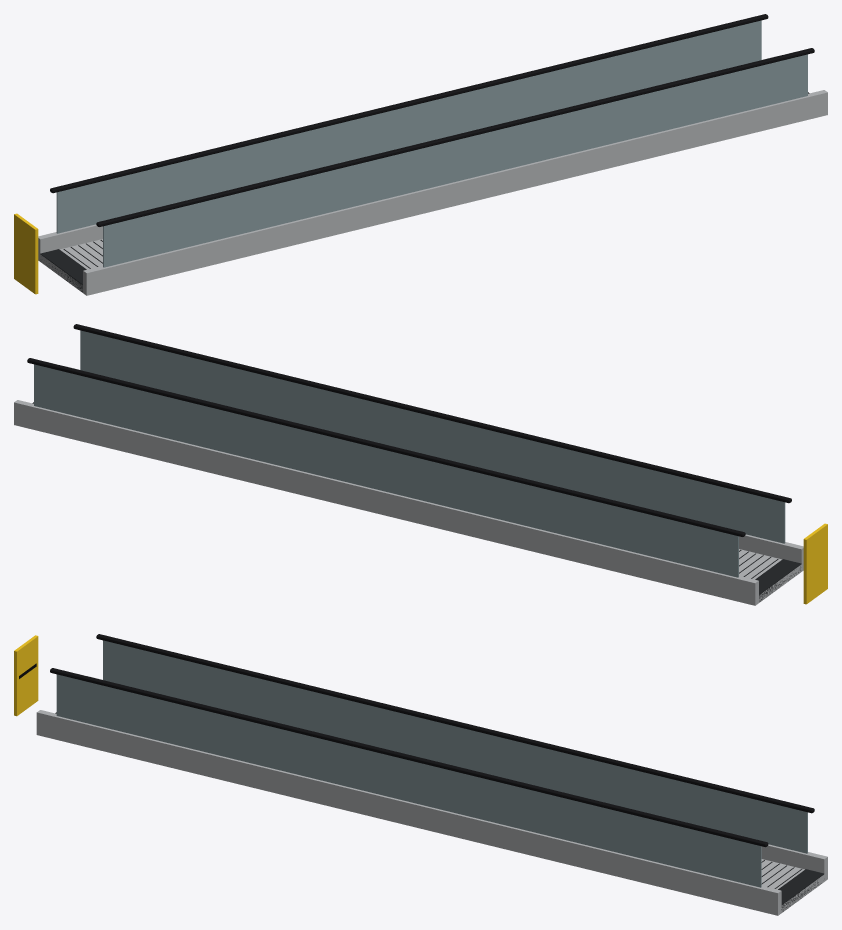
File: travelator_stopped.glb
3 renders of one model, top to bottom at view 1: azimuth 30°, elevation 25°; view 2: azimuth 150°, elevation 25°; view 3: azimuth 330°, elevation 25°, orthographic.
Parts seen in each view (by area): view 1: glas-1, glas1, sockel-1, handlauf-1, handlauf1, aufsteller, band, sockel1, kamm-1; view 2: glas1, glas-1, sockel1, handlauf-1, handlauf1, aufsteller, band, sockel-1, kamm-1; view 3: glas-1, glas1, sockel-1, handlauf-1, handlauf1, aufsteller, sockel1, band, kamm1.
Boxes of the visible parts, x1,y1,x2,y2 form: glas-1: (103,54,807,267); glas1: (56,20,761,233); sockel-1: (83,90,827,295); handlauf-1: (96,48,814,226); handlauf1: (50,14,768,193); aufsteller: (14,213,38,294); band: (40,239,102,292); sockel1: (38,56,777,261); kamm-1: (40,249,86,292); glas1: (34,364,738,577); glas-1: (80,330,785,543); sockel1: (14,400,758,605); handlauf-1: (73,324,791,503); handlauf1: (27,358,745,536); aufsteller: (803,523,827,604); band: (739,549,801,602); sockel-1: (64,366,803,571); kamm-1: (755,559,801,601); glas-1: (56,674,761,887); glas1: (103,640,807,853); sockel-1: (36,710,781,915); handlauf-1: (50,668,768,847); handlauf1: (96,634,814,813); aufsteller: (14,635,38,716); sockel1: (87,676,827,881); band: (761,859,824,912); kamm1: (778,869,823,911).
Bounding box in the file's own units: 12.6 × 1.06 × 1.4.
